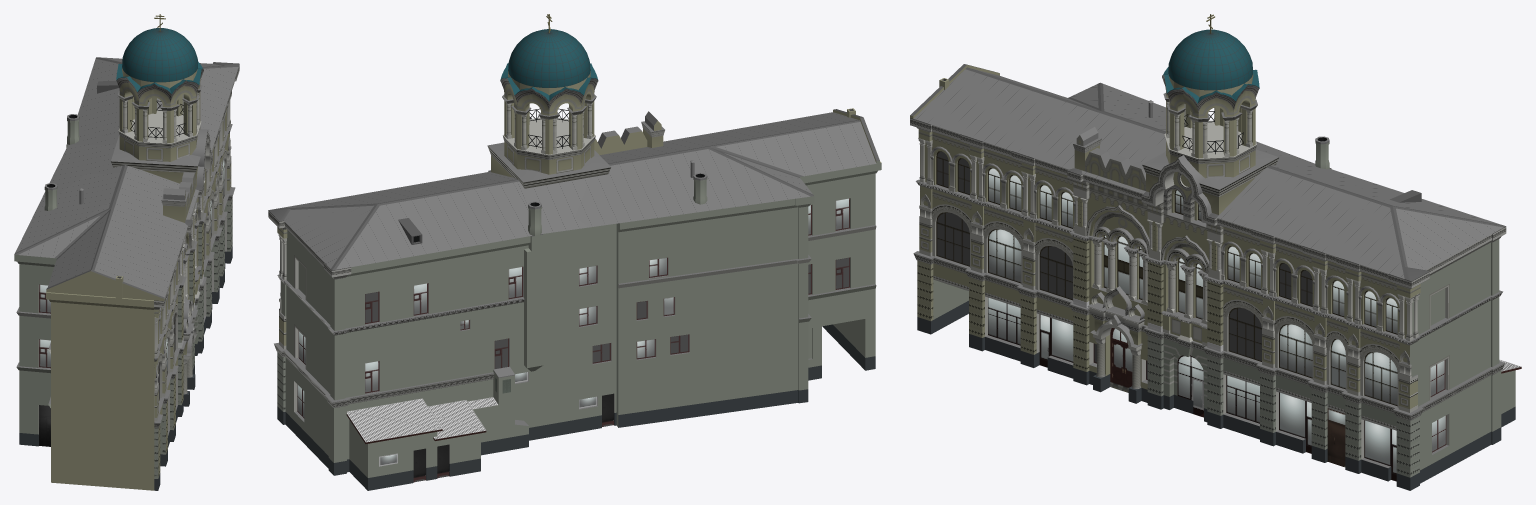
The model's file is NikolskyGreekMonastery.FBX.
3 renders of one model, left to right at view 1: azimuth 30°, elevation 25°; view 2: azimuth 150°, elevation 25°; view 3: azimuth 270°, elevation 25°, orthographic. The views are drawn at different scales.
Parts seen in each view (by area): view 1: 01080-50@72787; view 2: 01080-50@72787; view 3: 01080-50@72787.
Part boxes in pixels (box(x1,y1,x2,y2)): 01080-50@72787: box(14, 14, 239, 490); 01080-50@72787: box(268, 14, 881, 490); 01080-50@72787: box(910, 14, 1521, 490).
Bounding box in the file's own units: 34.6 × 30.27 × 43.19.
Materials: 1 (1 with a texture image).
